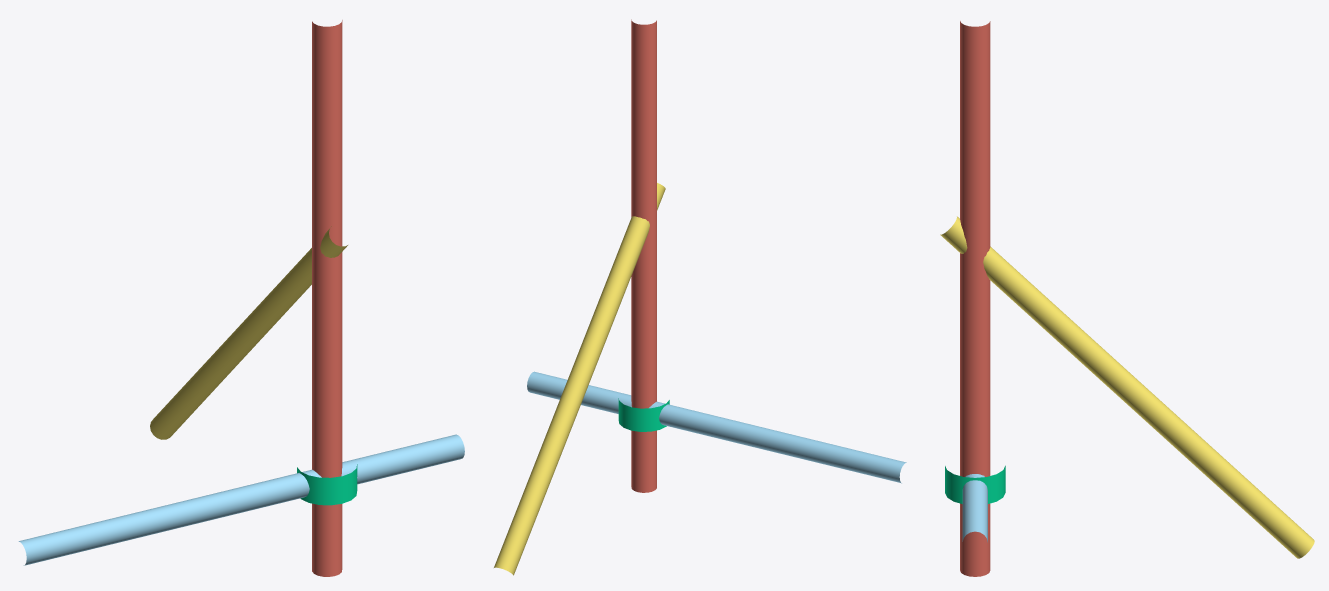
File: vector_algebra_dot_cross_products.glb
3 renders of one model, left to right at view 1: azimuth 30°, elevation 25°; view 2: azimuth 150°, elevation 25°; view 3: azimuth 270°, elevation 25°, orthographic. The views are drawn at different scales.
Visible parts, largest first — view 1: CrossProductTorqueNormalVectorC, PrimaryVectorAArrowShaft, SecondaryVectorBArrowShaft, CoordinateOriginIntersectionNode; view 2: CrossProductTorqueNormalVectorC, SecondaryVectorBArrowShaft, PrimaryVectorAArrowShaft, CoordinateOriginIntersectionNode; view 3: CrossProductTorqueNormalVectorC, SecondaryVectorBArrowShaft, PrimaryVectorAArrowShaft, CoordinateOriginIntersectionNode.
Part boxes in pixels (<box>): CrossProductTorqueNormalVectorC: <box>312,20,342,576</box>; PrimaryVectorAArrowShaft: <box>18,434,464,565</box>; SecondaryVectorBArrowShaft: <box>150,226,347,439</box>; CoordinateOriginIntersectionNode: <box>297,464,357,505</box>; CrossProductTorqueNormalVectorC: <box>631,19,656,492</box>; SecondaryVectorBArrowShaft: <box>494,183,665,575</box>; PrimaryVectorAArrowShaft: <box>527,371,906,483</box>; CoordinateOriginIntersectionNode: <box>618,398,669,431</box>; CrossProductTorqueNormalVectorC: <box>960,21,990,576</box>; SecondaryVectorBArrowShaft: <box>940,216,1314,558</box>; PrimaryVectorAArrowShaft: <box>962,474,987,542</box>; CoordinateOriginIntersectionNode: <box>945,465,1005,503</box>.
Bounding box in the file's own units: 1 × 1.2 × 0.7425.
